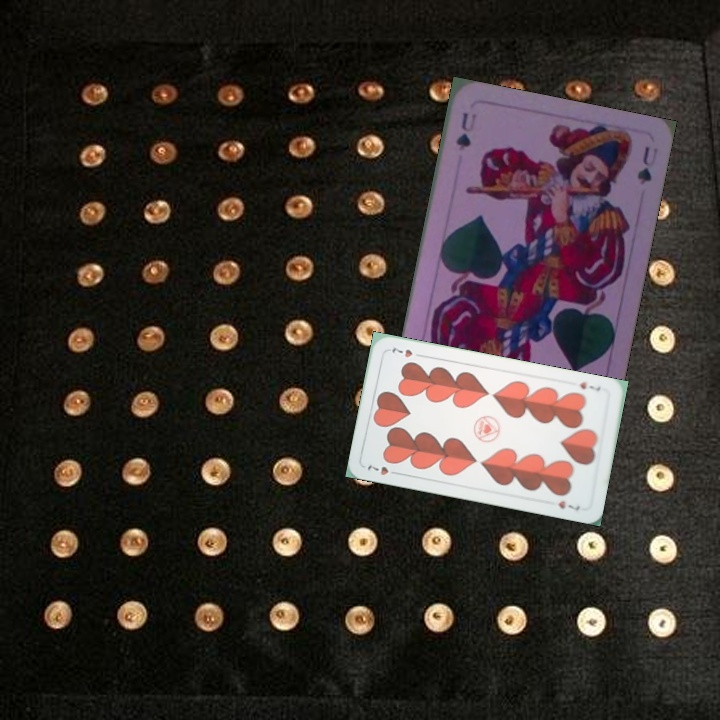GU: (452, 108, 479, 153)
H7: (363, 461, 402, 478), (576, 378, 603, 394)
